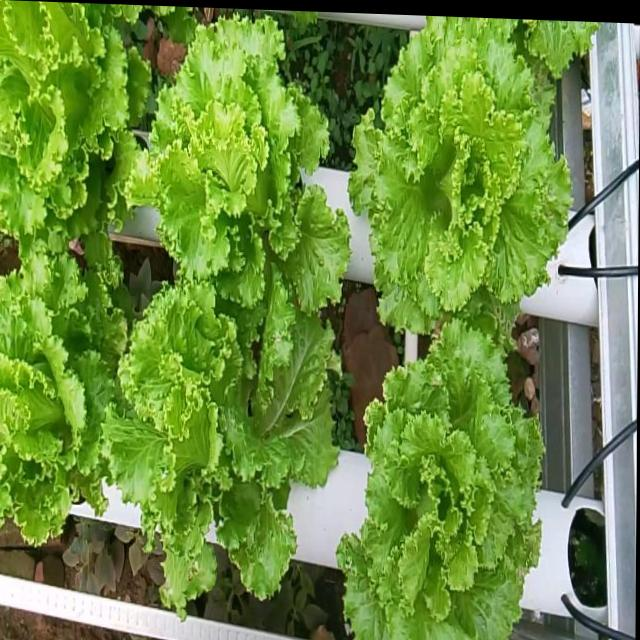Mature: (105, 279, 338, 636), (348, 16, 583, 336), (336, 317, 544, 640), (126, 14, 350, 313), (0, 0, 148, 269), (0, 252, 125, 545)
